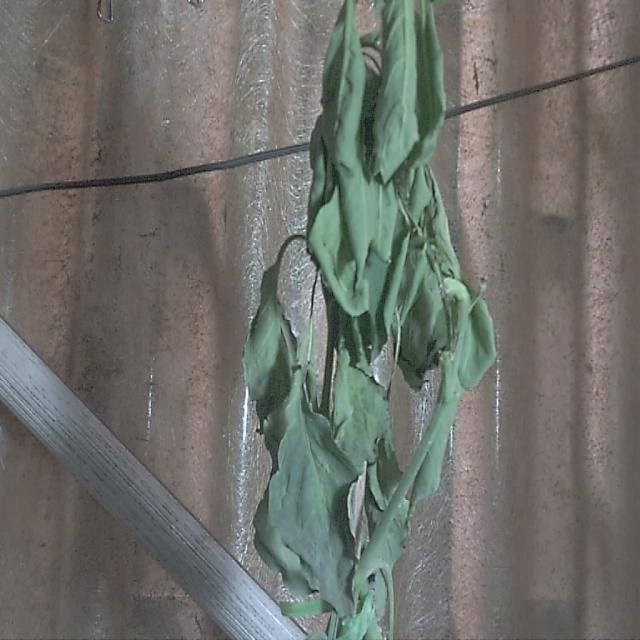Leaf: (266, 390, 364, 621), (374, 3, 423, 179), (318, 2, 362, 168)
